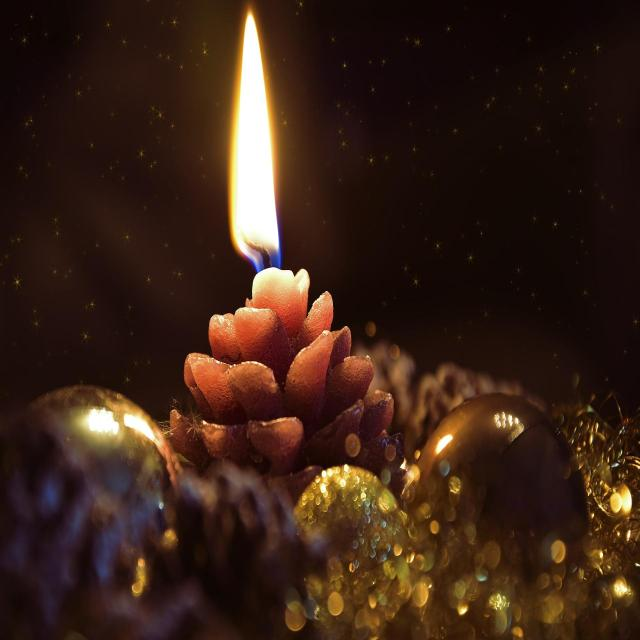Fire_Save: (227, 10, 282, 272)
